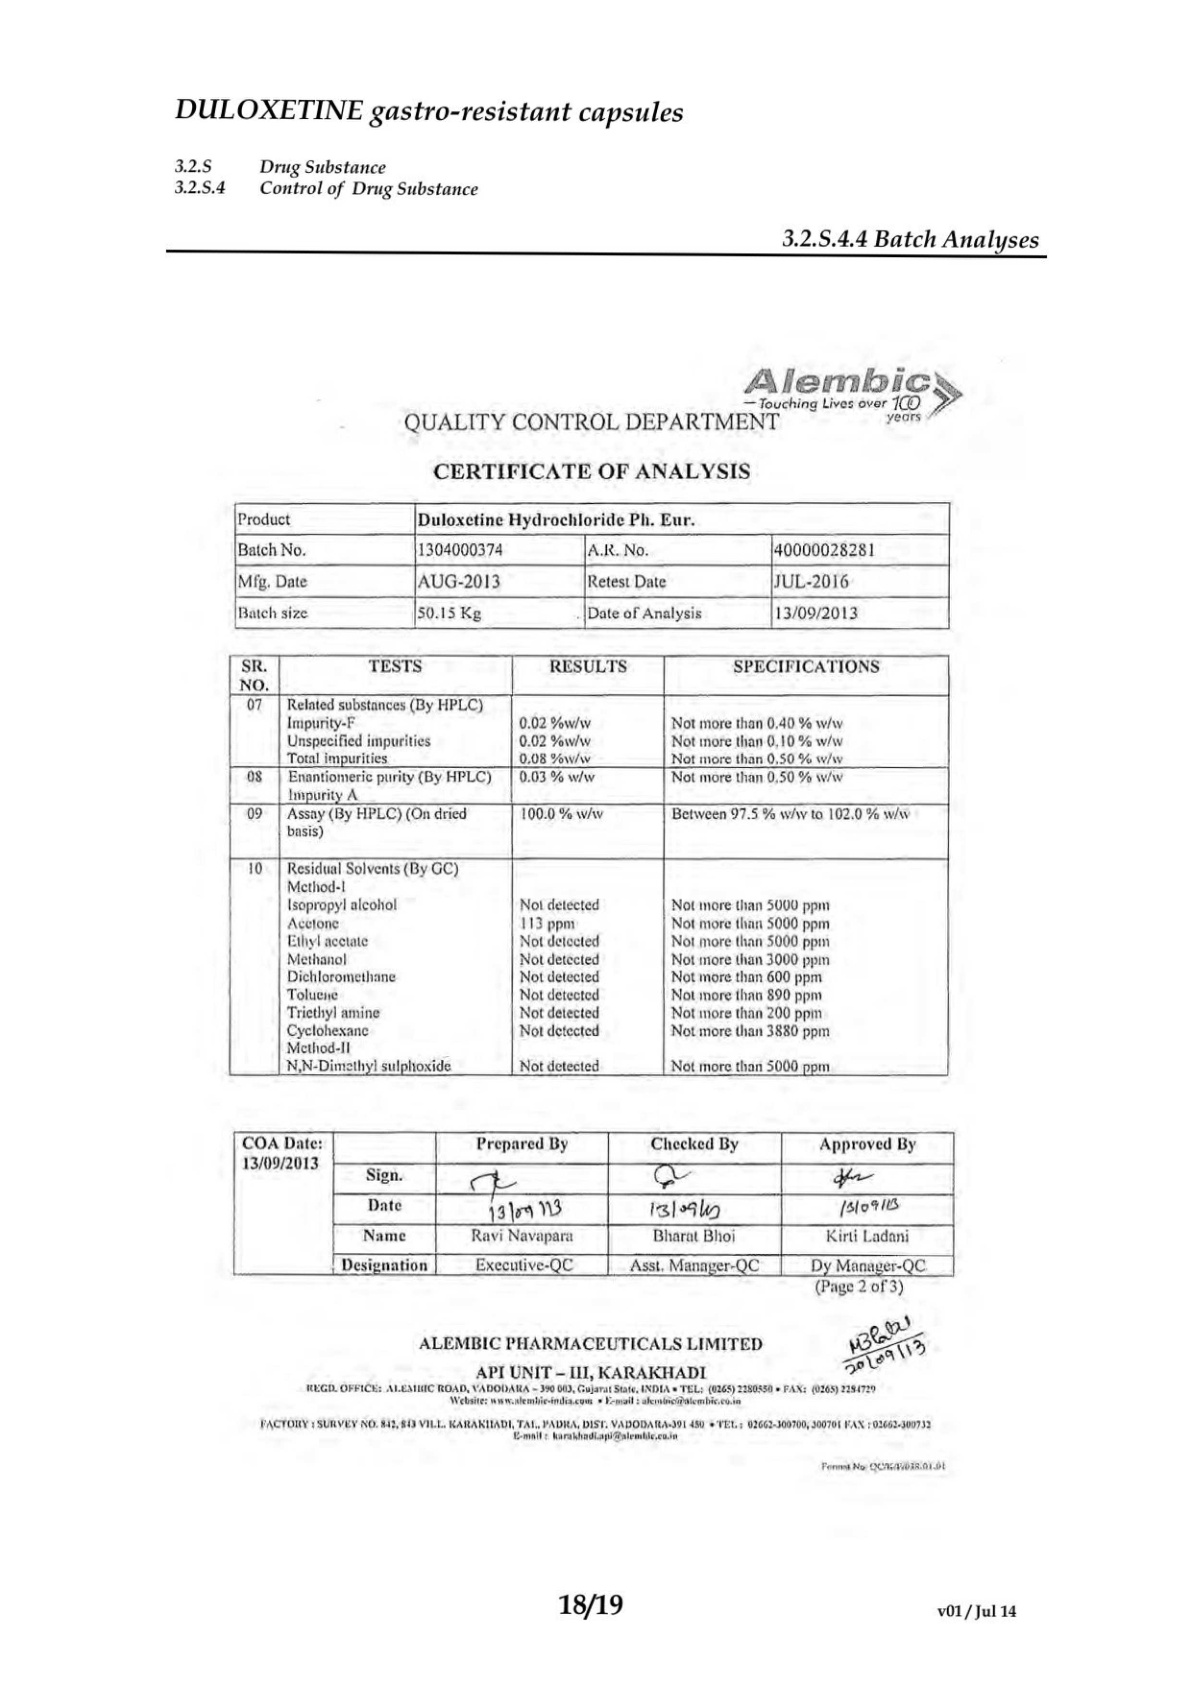full_lined: (227, 652, 949, 1077)
merged_cells: (232, 1130, 955, 1277), (233, 502, 951, 629)
